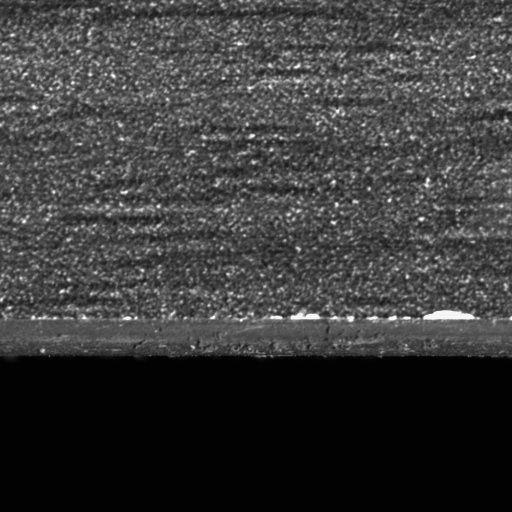huashang: (421, 308, 477, 322), (289, 312, 322, 321)
